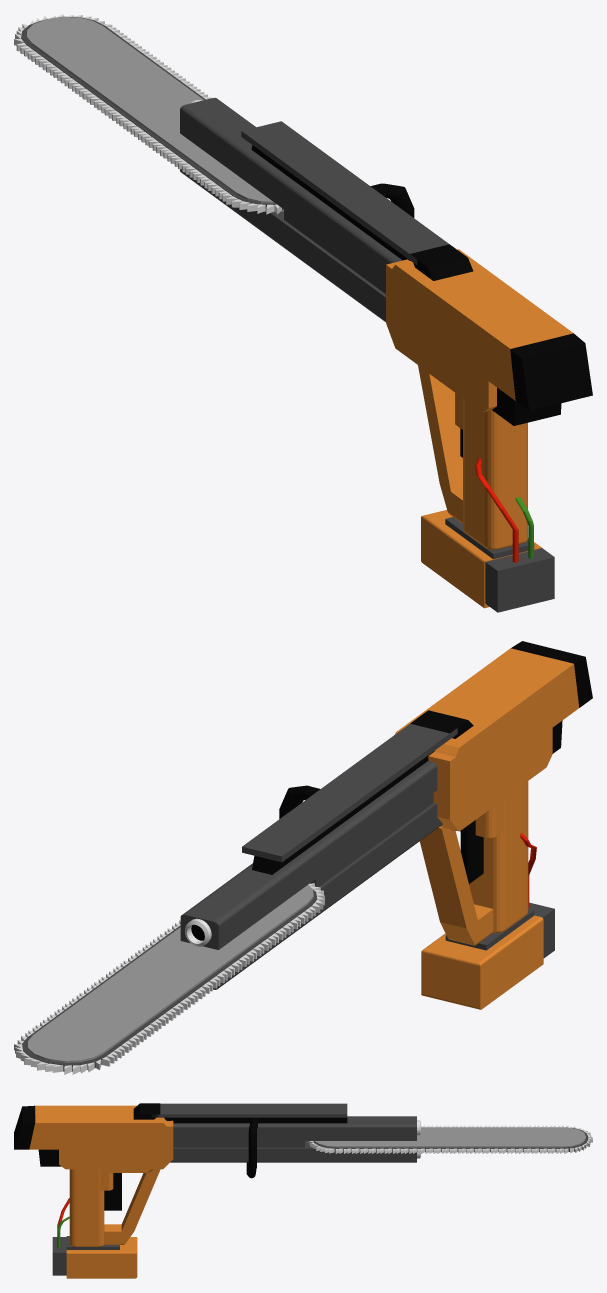
The model's file is shotgun.fbx.
3 views of the same model, one above another, from view 1: azimuth 30°, elevation 25°; view 2: azimuth 150°, elevation 25°; view 3: azimuth 270°, elevation 25° (orthographic). The views are drawn at different scales.
Visible parts, largest first — view 1: Shotgun, Chainsaw 1, Chainsaw 2; view 2: Shotgun, Chainsaw 1, Chainsaw 2; view 3: Shotgun, Chainsaw 1, Chainsaw 2.
Boxes of the visible parts, bbox=[...] form: Shotgun: bbox=[180, 97, 592, 612]; Chainsaw 1: bbox=[14, 15, 281, 214]; Chainsaw 2: bbox=[15, 14, 283, 214]; Shotgun: bbox=[180, 641, 592, 1009]; Chainsaw 1: bbox=[15, 883, 324, 1074]; Chainsaw 2: bbox=[14, 886, 324, 1074]; Shotgun: bbox=[14, 1103, 420, 1278]; Chainsaw 1: bbox=[307, 1125, 592, 1153]; Chainsaw 2: bbox=[308, 1125, 592, 1153].
Size of the model in its own units: 358 by 873 by 2836.
